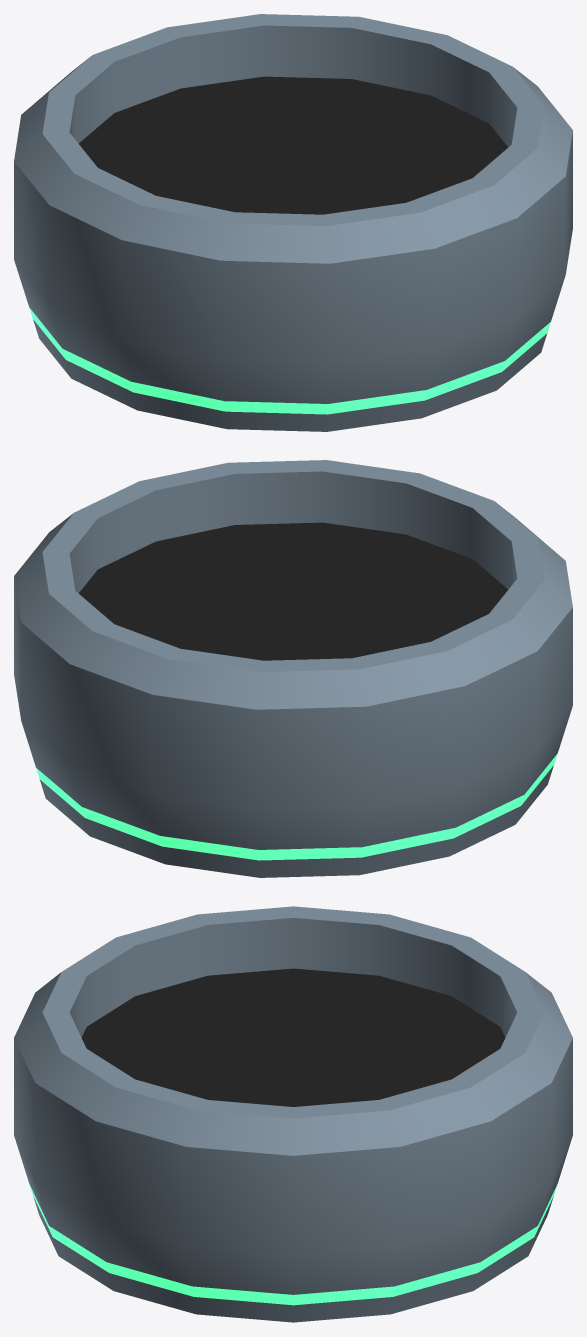
Rendered from SM_planter_circle.fbx.
3 views of the same model, one above another, from view 1: azimuth 30°, elevation 25°; view 2: azimuth 150°, elevation 25°; view 3: azimuth 270°, elevation 25° (orthographic).
Visible parts, largest first — view 1: Planter Circle; view 2: Planter Circle; view 3: Planter Circle.
Boxes of the visible parts, box(x1,y1,x2,y2) form: Planter Circle: box(14, 14, 572, 431); Planter Circle: box(14, 460, 572, 877); Planter Circle: box(14, 906, 572, 1322).
Size of the model in its own units: 100 by 40 by 100.
